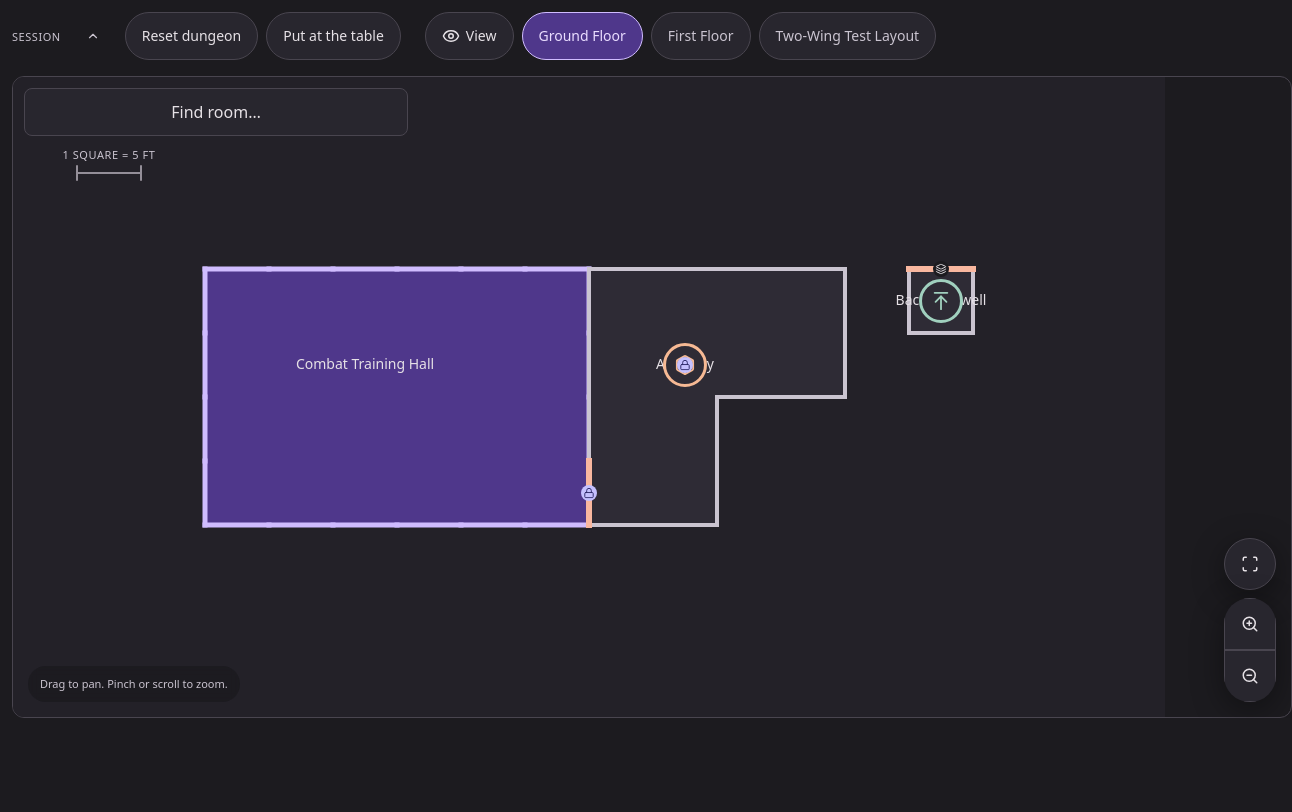
Test: MapLabPage (M2 stairs + second floor) › switches the single active-floor canvas via the floor choices
Click the button "First Floor" at (701, 36), box [651,12,750,60]
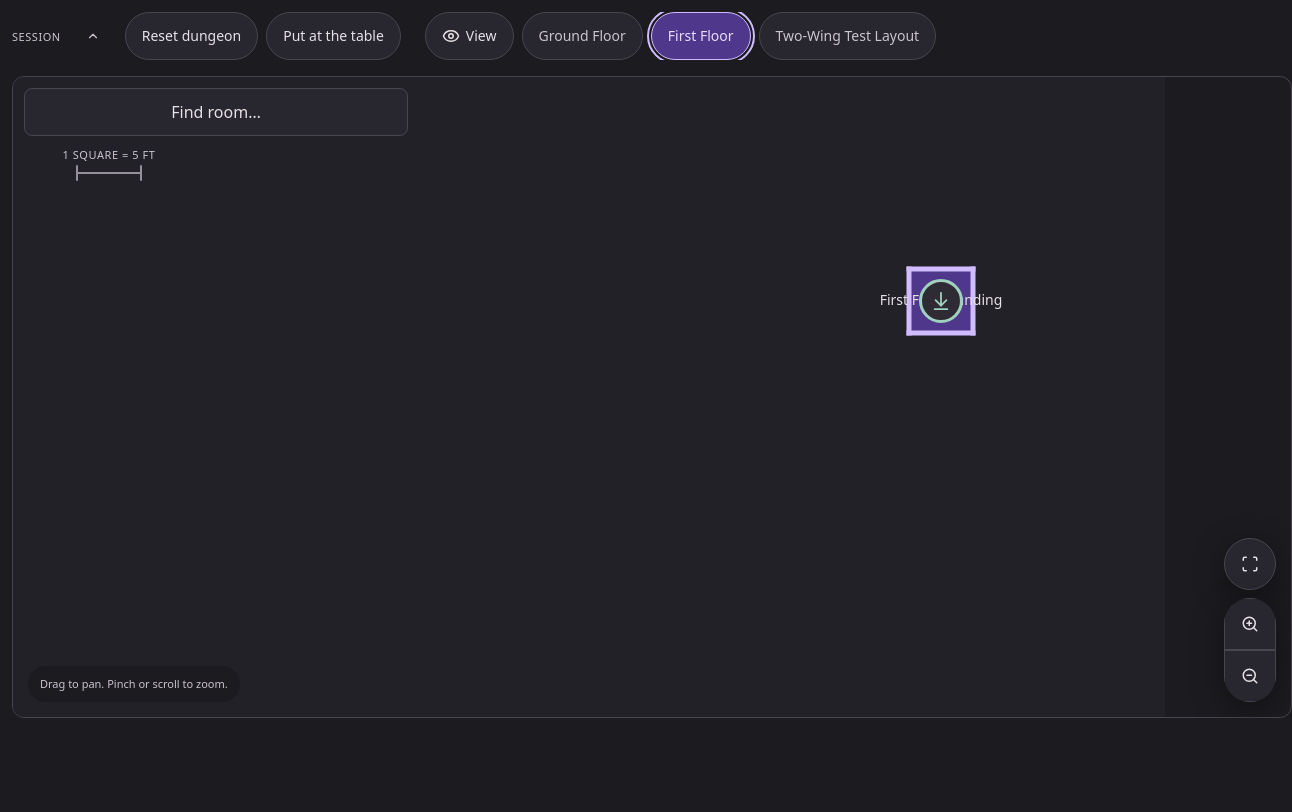
Expected: the button "First Floor Landing" is shown, [880,290,1002,309]
Expected: the icon "Combat Training Hall" is gone
